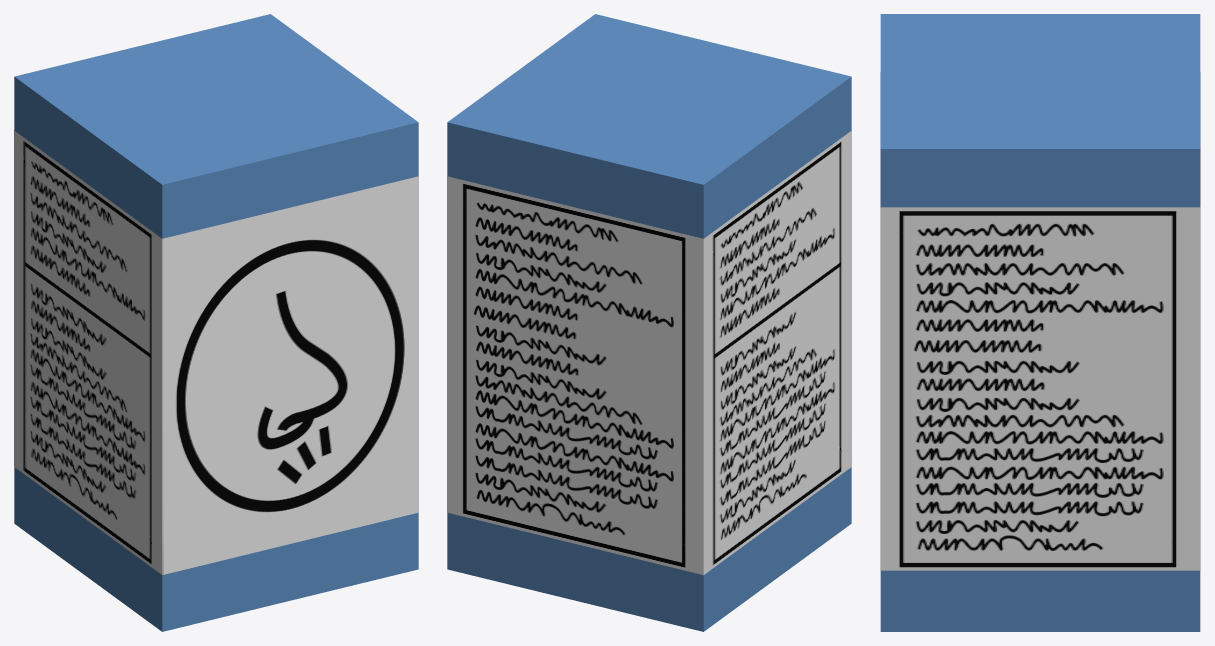
The model's file is nosaeSprayOTC.fbx.
The picture shows the model from 3 angles, left to right: view 1: azimuth 30°, elevation 25°; view 2: azimuth 150°, elevation 25°; view 3: azimuth 270°, elevation 25°; orthographic projection. The views are drawn at different scales.
Parts seen in each view (by area): view 1: noseSprayLabel, allergiesBox; view 2: noseSprayLabel, allergiesBox; view 3: noseSprayLabel, allergiesBox.
Boxes of the visible parts, x1,y1,x2,y2 form: noseSprayLabel: (14,130,418,574); allergiesBox: (14,14,418,631); noseSprayLabel: (447,130,851,575); allergiesBox: (447,14,851,631); noseSprayLabel: (880,72,1200,570); allergiesBox: (880,14,1200,631).
Size of the model in its own units: 12.01 by 20 by 12.01.
